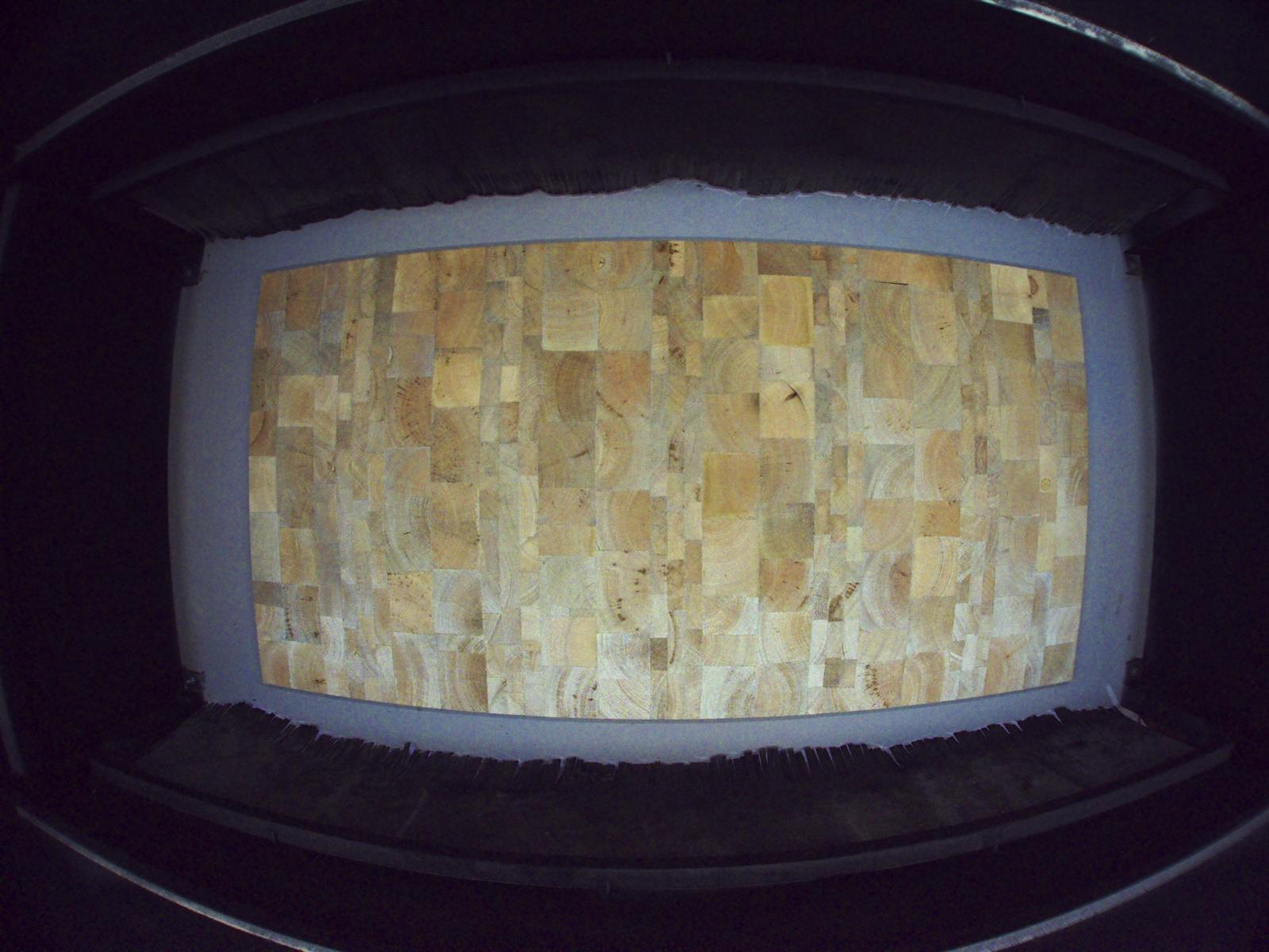sheck_ecuatoriano: (784, 382, 808, 414)
